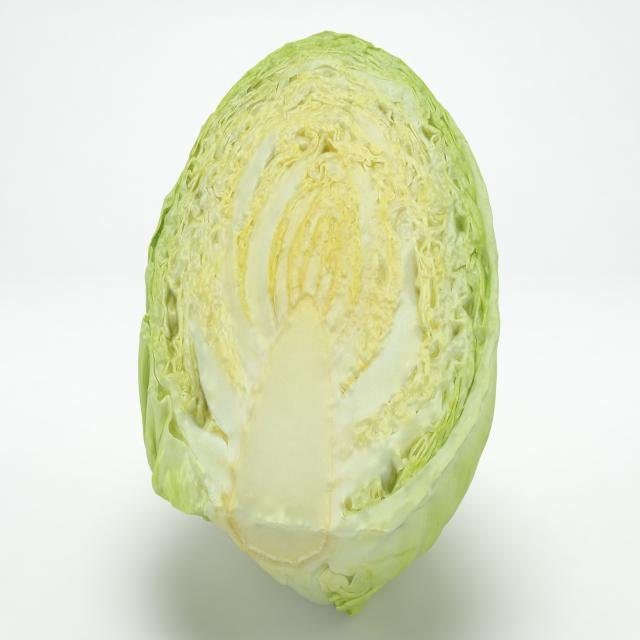cabbage: (131, 24, 507, 620)
